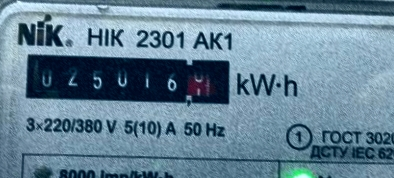0: (118, 66, 133, 89), (42, 67, 56, 89), (194, 64, 207, 84)
1: (143, 66, 155, 91), (196, 87, 204, 98)
2: (68, 65, 82, 88)
5: (93, 69, 105, 90)
6: (167, 70, 181, 95)
screen: (18, 44, 243, 114)
